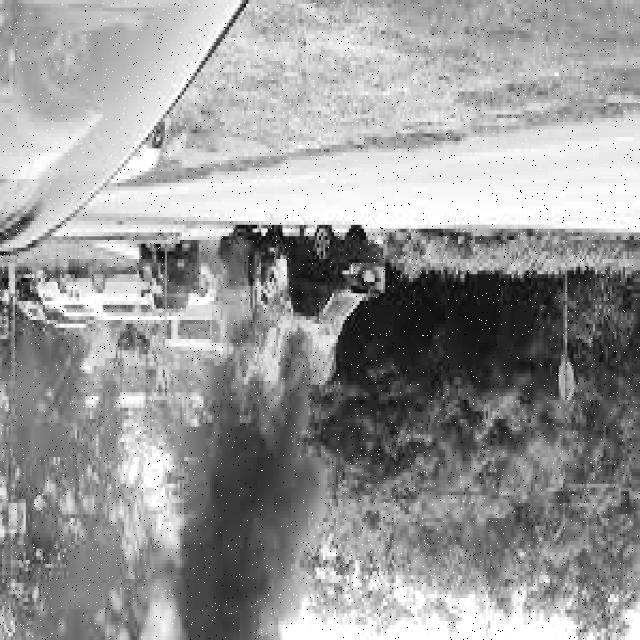api: (226, 257, 346, 451)
